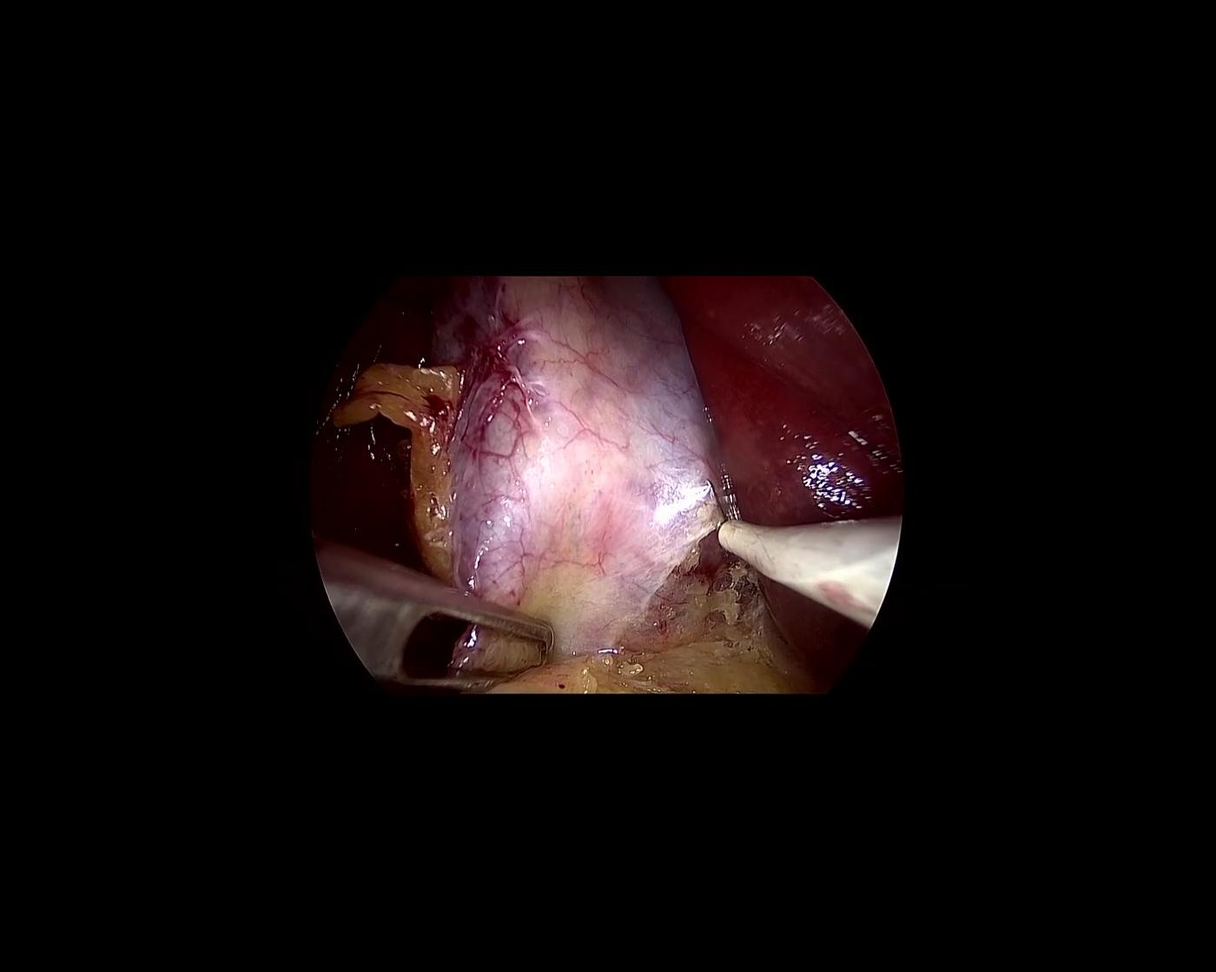Cautery: (682, 478, 904, 630)
Forceps: (268, 529, 562, 736)
Gallbladder: (431, 274, 739, 675)
Liver: (667, 229, 954, 697)
